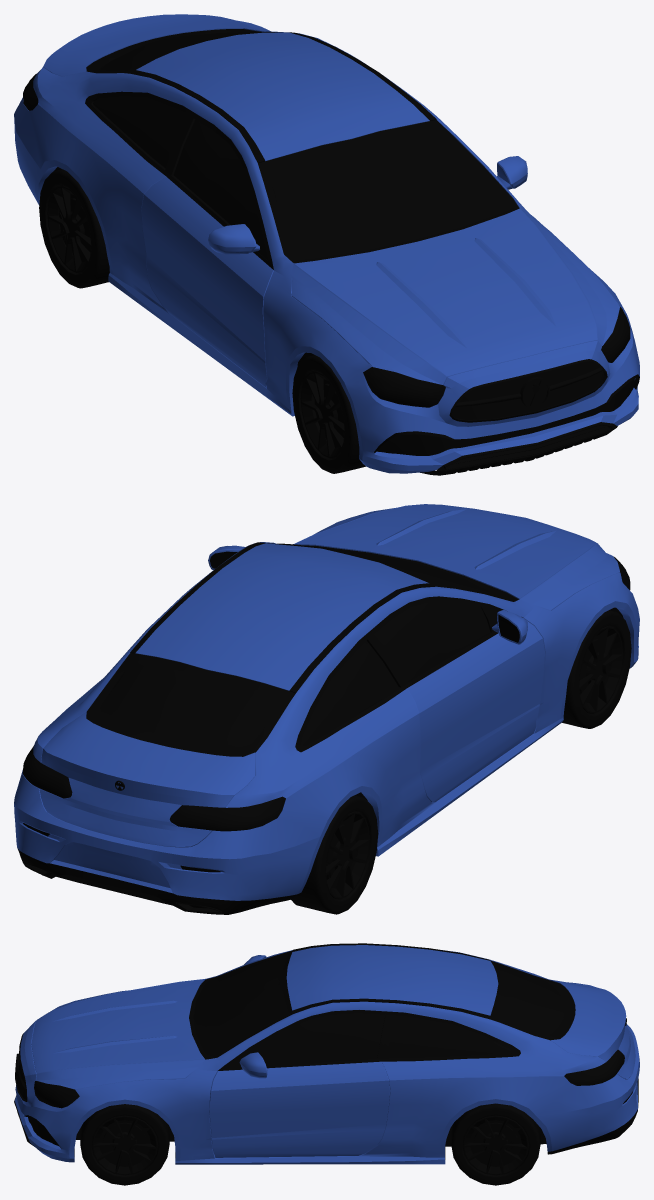
Rendered from Merc_e.fbx.
3 views of the same model, one above another, from view 1: azimuth 30°, elevation 25°; view 2: azimuth 150°, elevation 25°; view 3: azimuth 270°, elevation 25° (orthographic). The views are drawn at different scales.
Parts seen in each view (by area): view 1: polySurface2, arkateker2, onteker2; view 2: polySurface2, arkateker2, onteker2; view 3: polySurface2, arkateker1, onteker1.
Boxes of the visible parts, <box> form: polySurface2: <box>14,14,639,475</box>; arkateker2: <box>39,169,109,288</box>; onteker2: <box>292,355,365,473</box>; polySurface2: <box>14,504,639,914</box>; arkateker2: <box>291,795,378,914</box>; onteker2: <box>562,610,631,728</box>; polySurface2: <box>14,943,639,1164</box>; arkateker1: <box>451,1103,540,1185</box>; onteker1: <box>80,1104,169,1185</box>.
Bounding box in the file's own units: 165 × 116 × 389.
